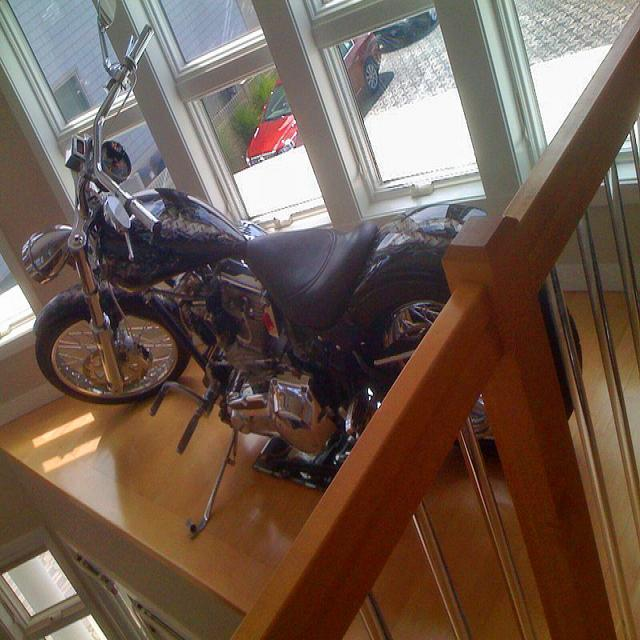motor: (25, 1, 505, 526)
